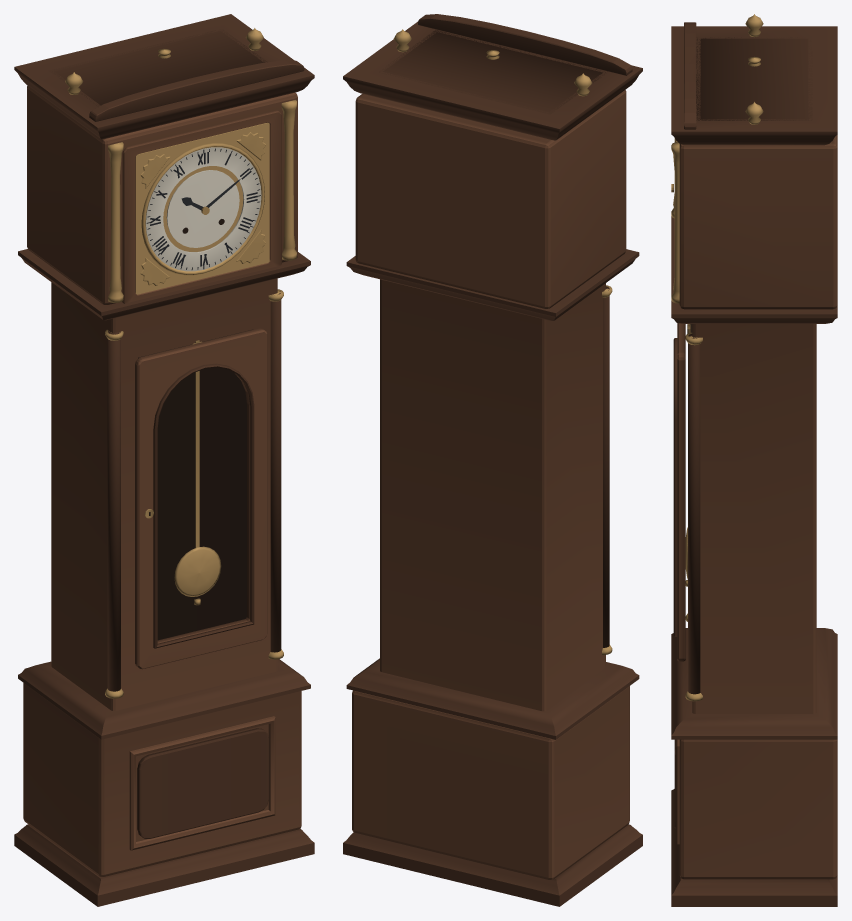
The model's file is grandfatherClock.glb.
The picture shows the model from 3 angles, left to right: view 1: azimuth 30°, elevation 25°; view 2: azimuth 150°, elevation 25°; view 3: azimuth 270°, elevation 25°; orthographic projection.
Visible parts, largest first — view 1: body, pendulum; view 2: body; view 3: body.
Boxes of the visible parts, x1,y1,x2,y2 form: body: (14, 14, 314, 906); pendulum: (174, 340, 221, 605); body: (343, 14, 642, 906); body: (671, 14, 837, 906).
Bounding box in the file's own units: 0.6 × 2.12 × 0.4.
